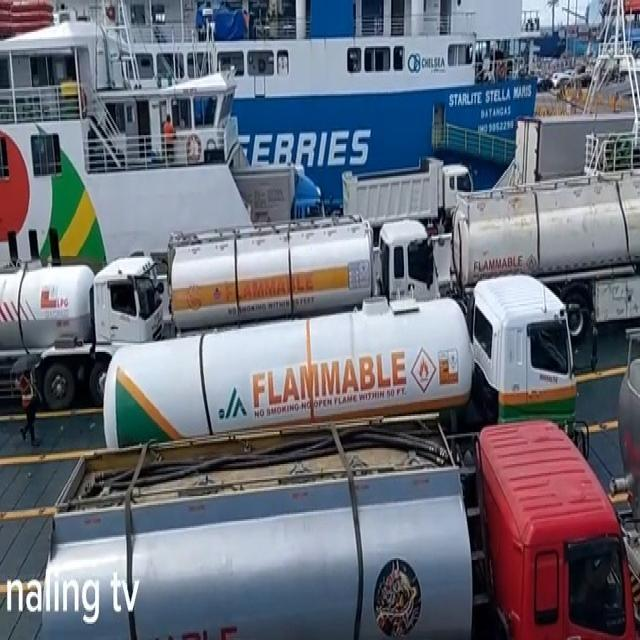truck: (45, 416, 634, 640), (102, 272, 584, 488), (448, 172, 640, 338), (168, 216, 440, 332), (0, 251, 163, 406), (515, 112, 640, 201), (341, 155, 474, 233), (232, 166, 325, 226)
